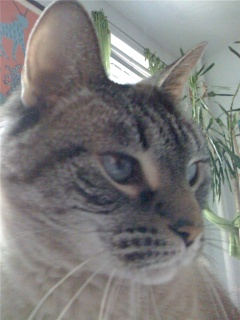Cat: (0, 0, 239, 317)
